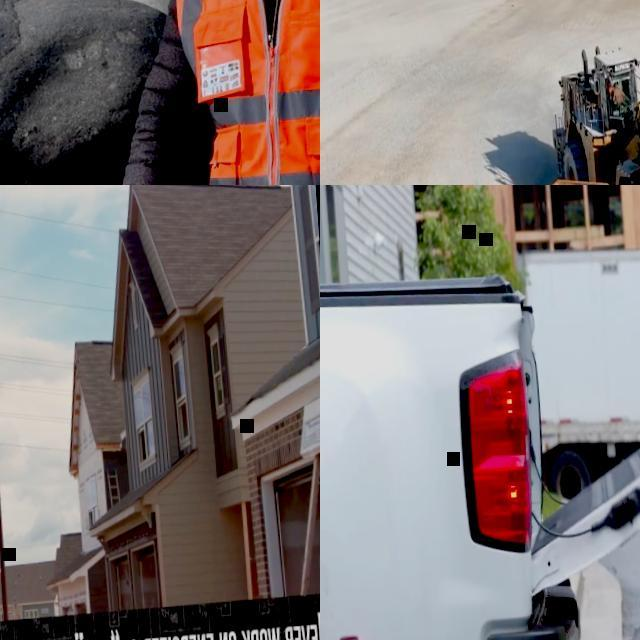vest: (178, 0, 320, 185)
